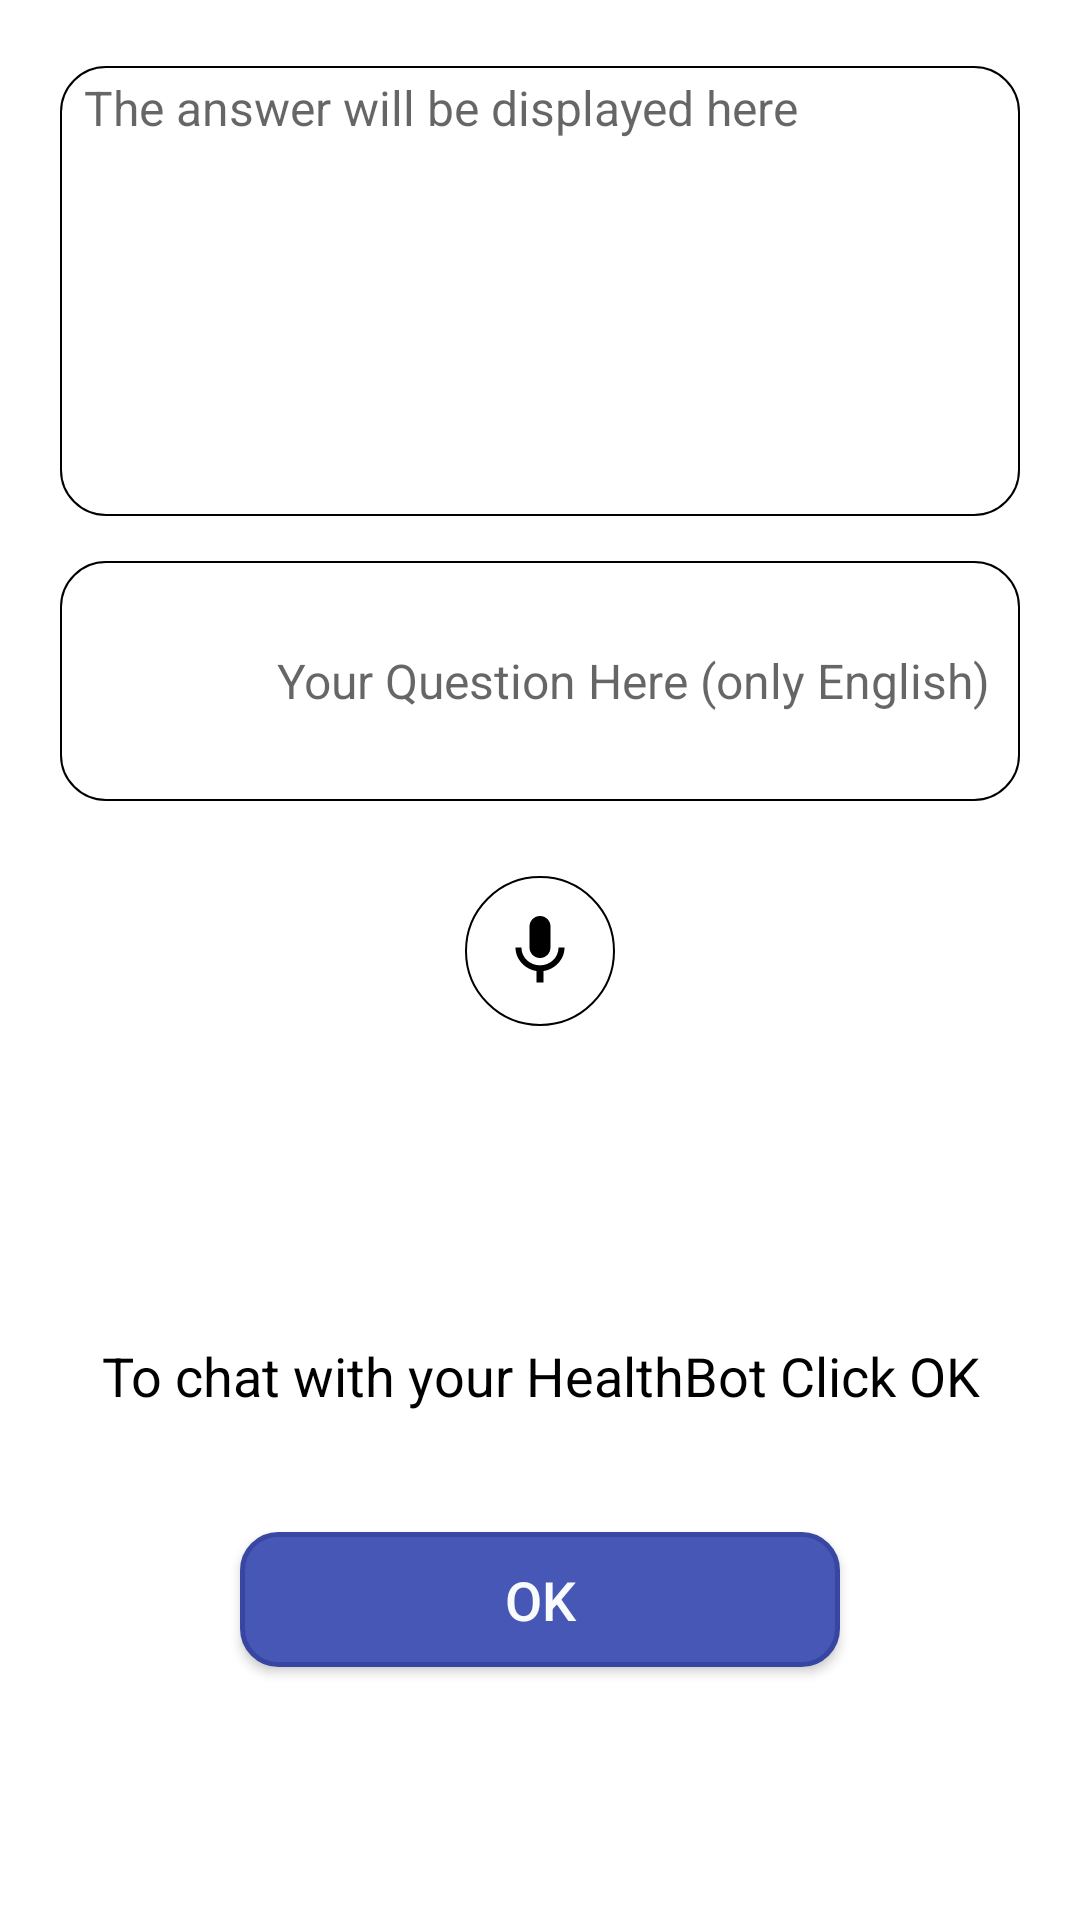

Named icons in this screenshot (1080px x 1920px) and their centers, (x,y):
mic: (540,951)
